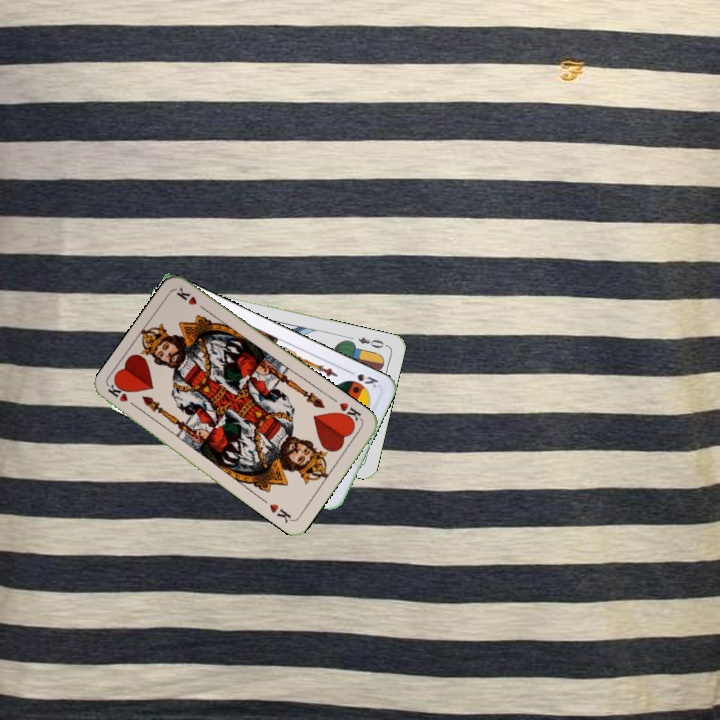EO: (354, 333, 390, 351)
HK: (104, 380, 141, 412), (334, 398, 365, 427)
SK: (343, 366, 381, 391)
